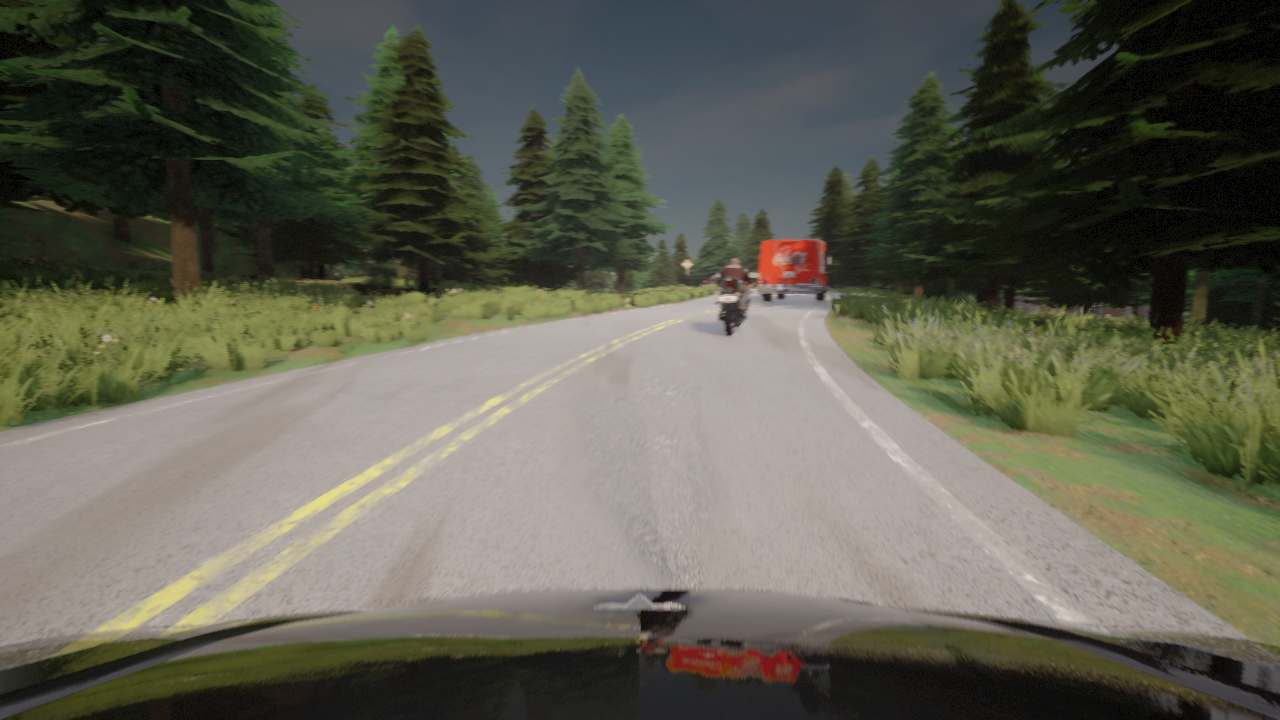cyclist: (0, 588, 1279, 719), (758, 238, 831, 301), (715, 273, 757, 336), (712, 271, 720, 284), (702, 276, 713, 285)
